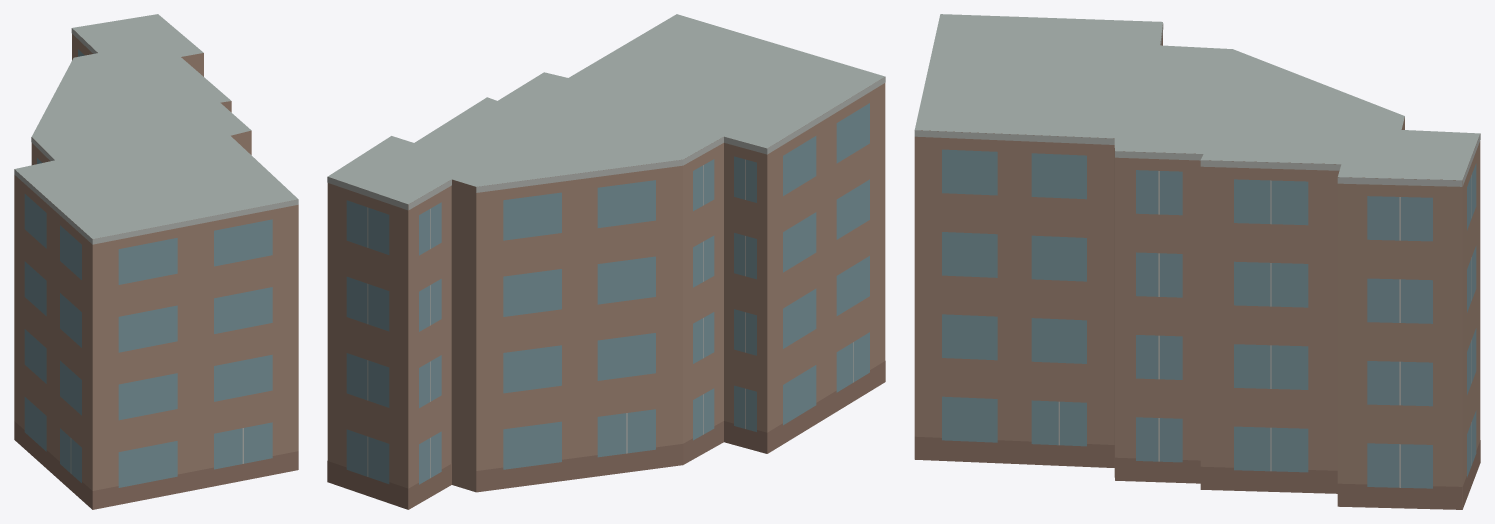
File: survey-upis-32460519.glb
3 renders of one model, left to right at view 1: azimuth 30°, elevation 25°; view 2: azimuth 150°, elevation 25°; view 3: azimuth 270°, elevation 25°, orthographic. The views are drawn at different scales.
Parts seen in each view (by area): view 1: survey-upis-32460519.tmp; view 2: survey-upis-32460519.tmp; view 3: survey-upis-32460519.tmp.
Part boxes in pixels (x1,y1,x2,y2): survey-upis-32460519.tmp: [14, 14, 298, 509]; survey-upis-32460519.tmp: [327, 14, 885, 509]; survey-upis-32460519.tmp: [914, 14, 1480, 509].
Size of the model in its own units: 13.21 by 12.2 by 18.99.
